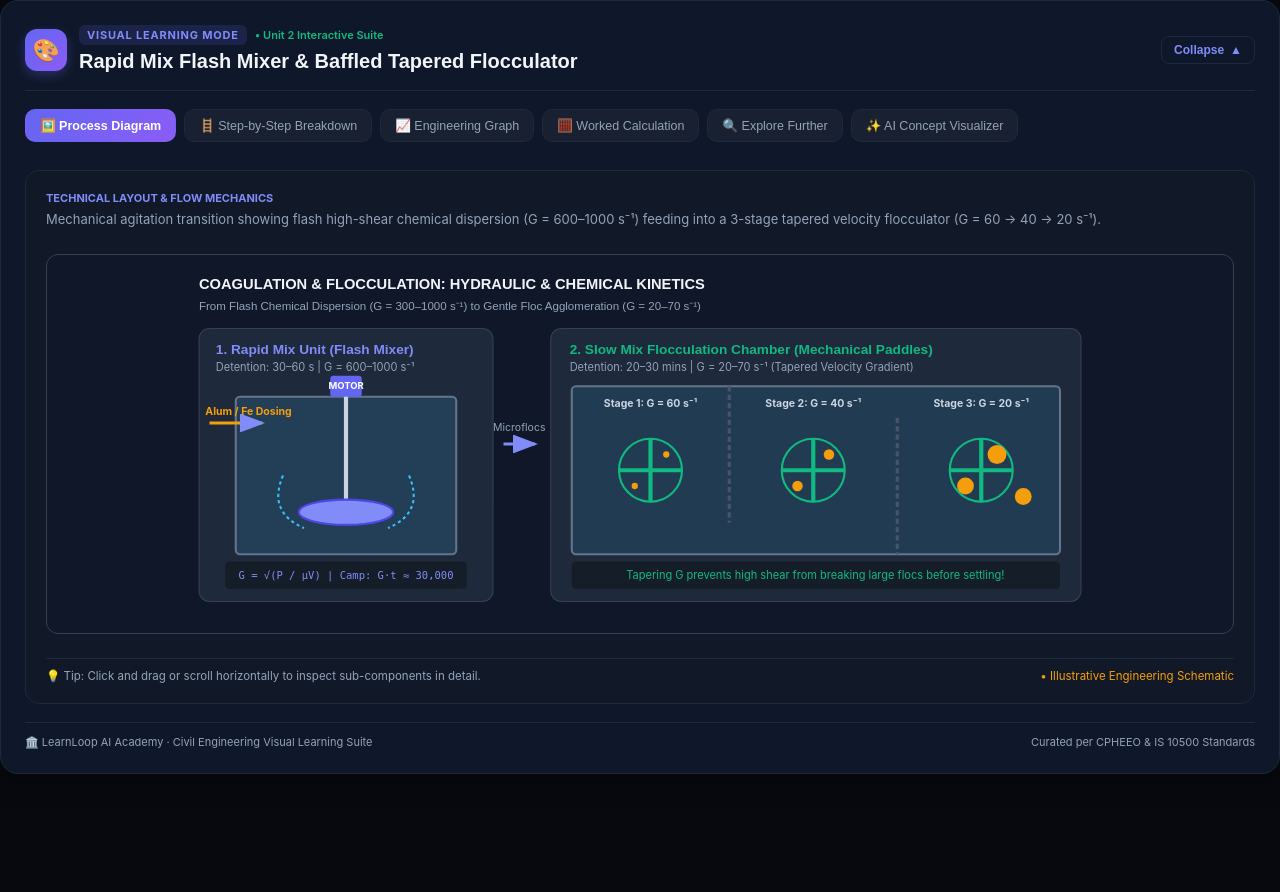
Test case: Visual Learning Mode for Unit 2 (Water Treatment Units) › Step-by-step breakdown toggles between Simple and Technical explanations
The width and height of the screenshot is (1280, 892).
Switch to Step-by-Step tab
Step 1. Click the tab "🪜 Step-by-Step Breakdown" → click(278, 126), box [184,109,372,142]
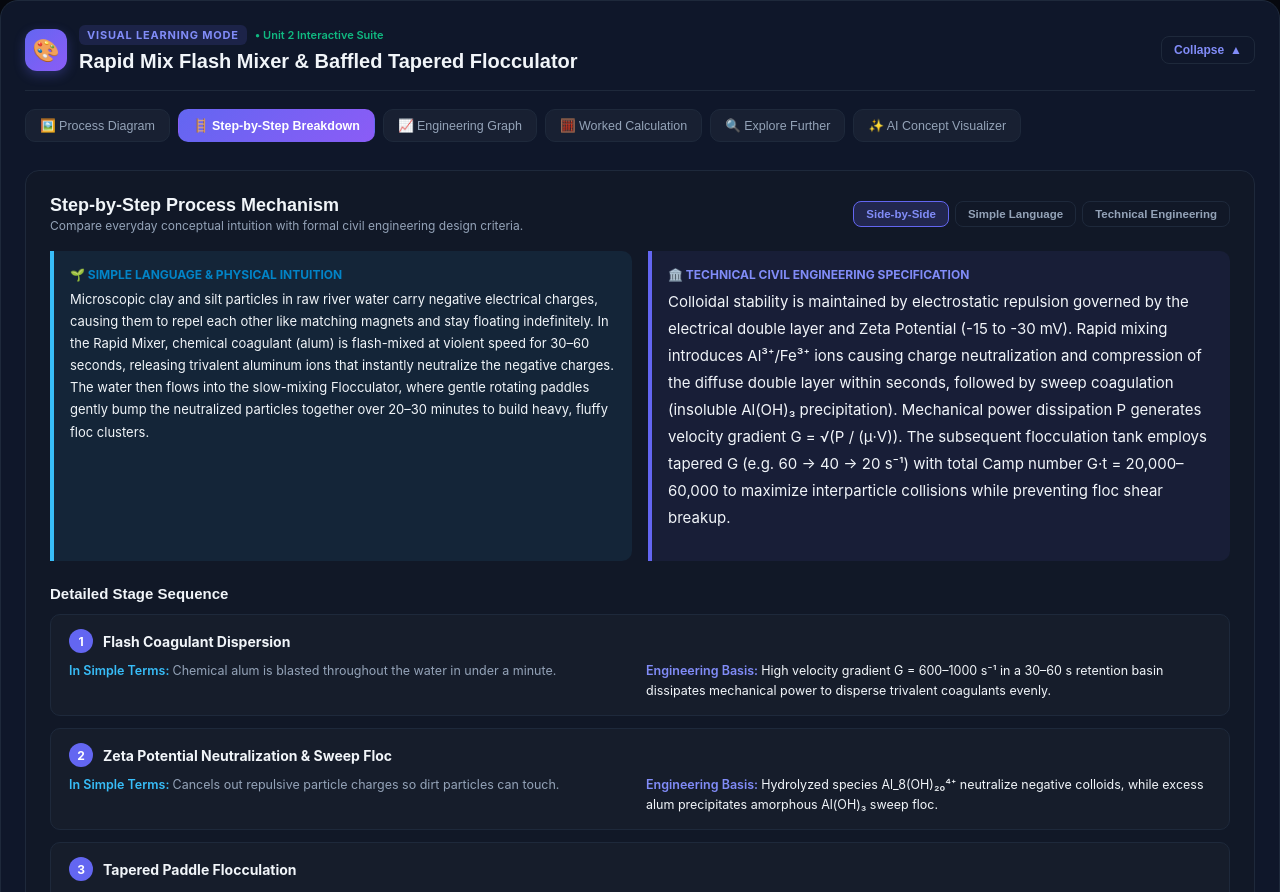
Expected: the text "🌱 Simple Language & Physical Intuition" is shown, [70,267,342,282]
Expected: the text "🏛️ Technical Civil Engineering Specification" is shown, [668,267,969,282]
Expected: the text "Flash Coagulant Dispersion" is shown, [103,632,290,650]
Click Simple Language only
Step 2. Click the button "Simple Language" → click(1016, 214), box [955,201,1076,227]
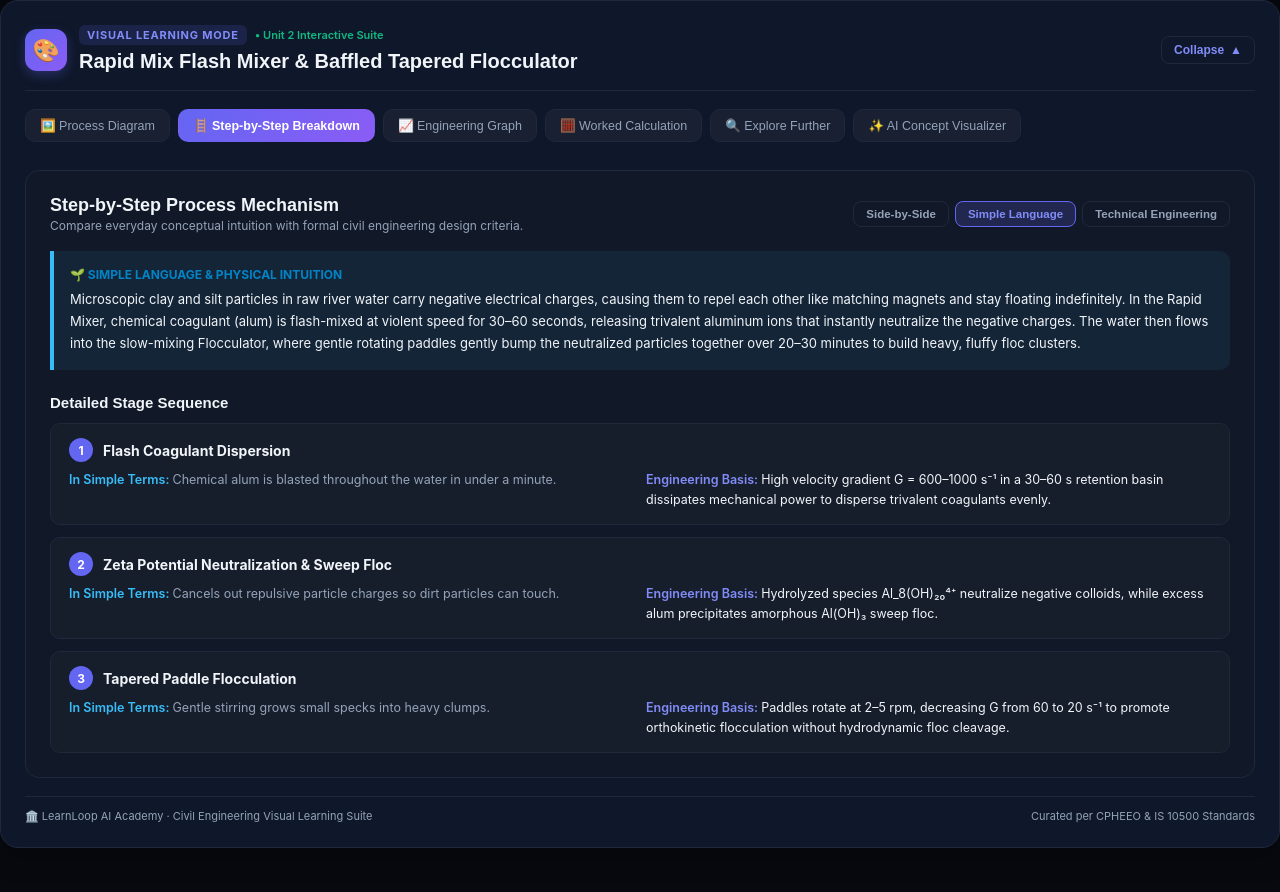
Expected: the text "🌱 Simple Language & Physical Intuition" is shown, [70,267,342,282]
Expected: the text "Technical Civil Engineering Specification" is gone
Click Technical only
Step 3. Click the button "Technical Engineering" → click(1156, 214), box [1082,201,1230,227]
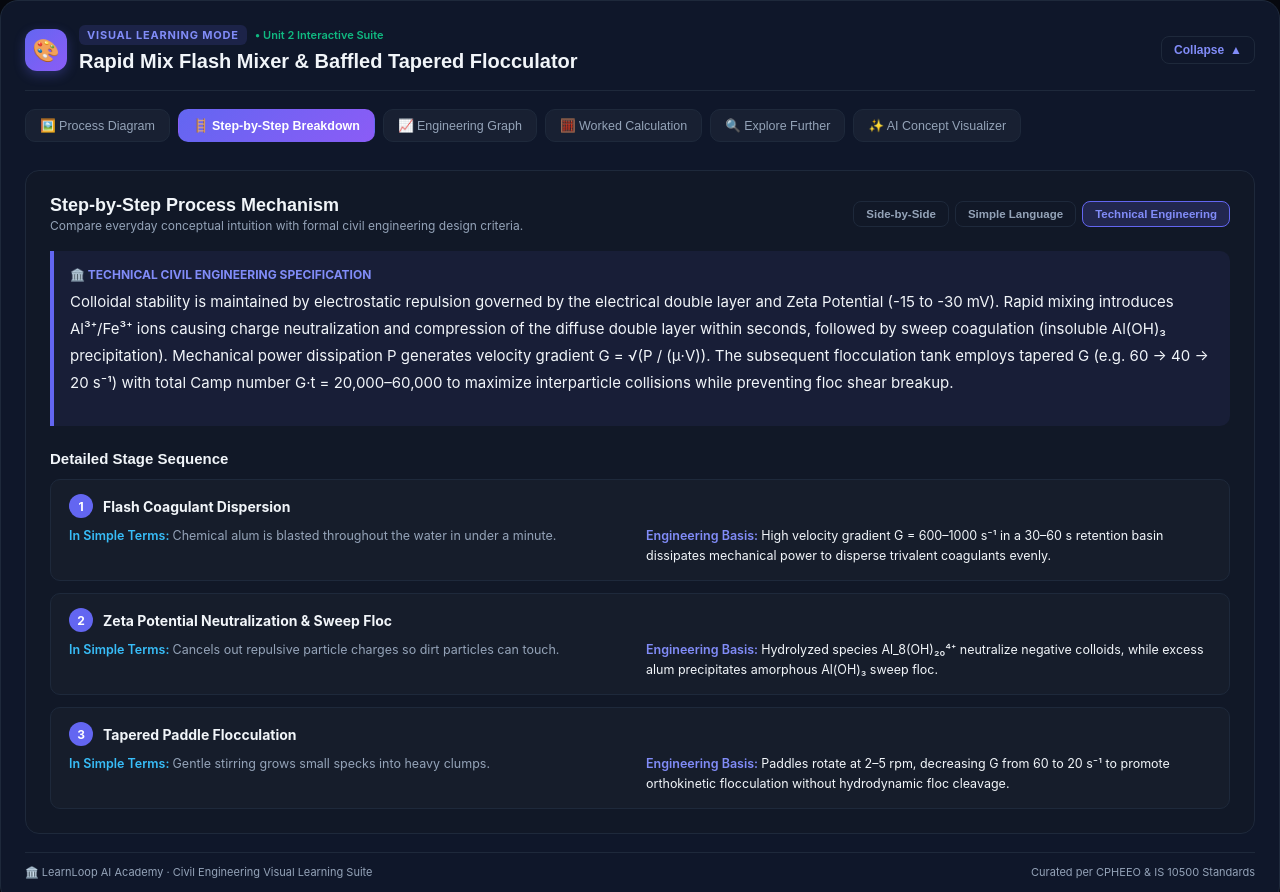
Expected: the text "Simple Language & Physical Intuition" is gone
Expected: the text "🏛️ Technical Civil Engineering Specification" is shown, [70,267,371,282]
